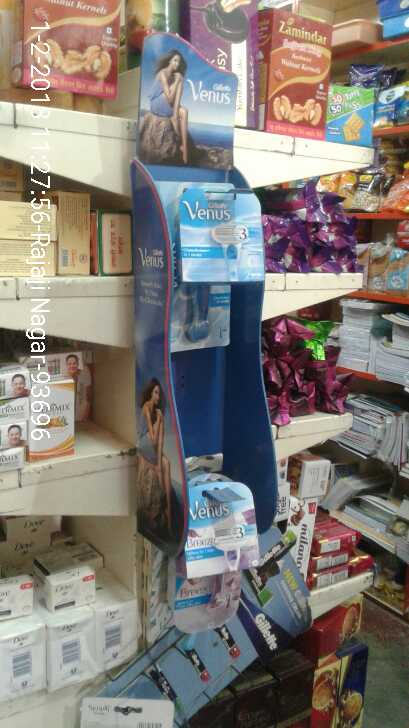venus: (177, 183, 269, 287), (180, 479, 264, 580)
